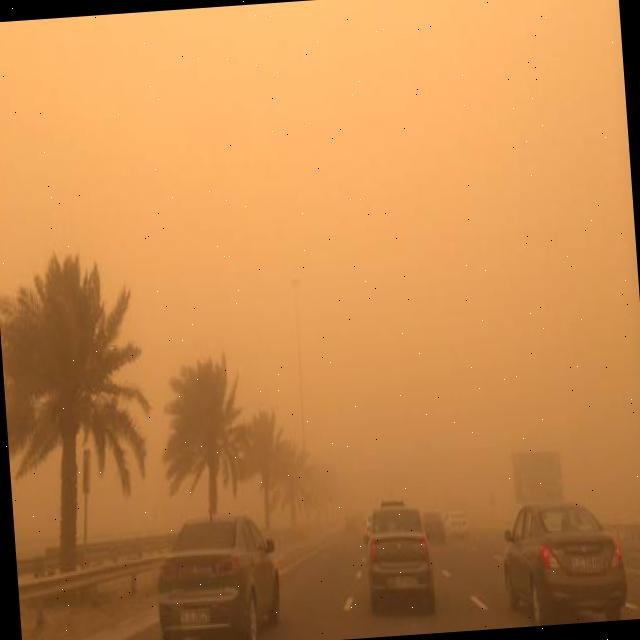car: (494, 496, 626, 626), (151, 511, 282, 640), (361, 504, 434, 610), (443, 505, 468, 536), (424, 508, 445, 542)
